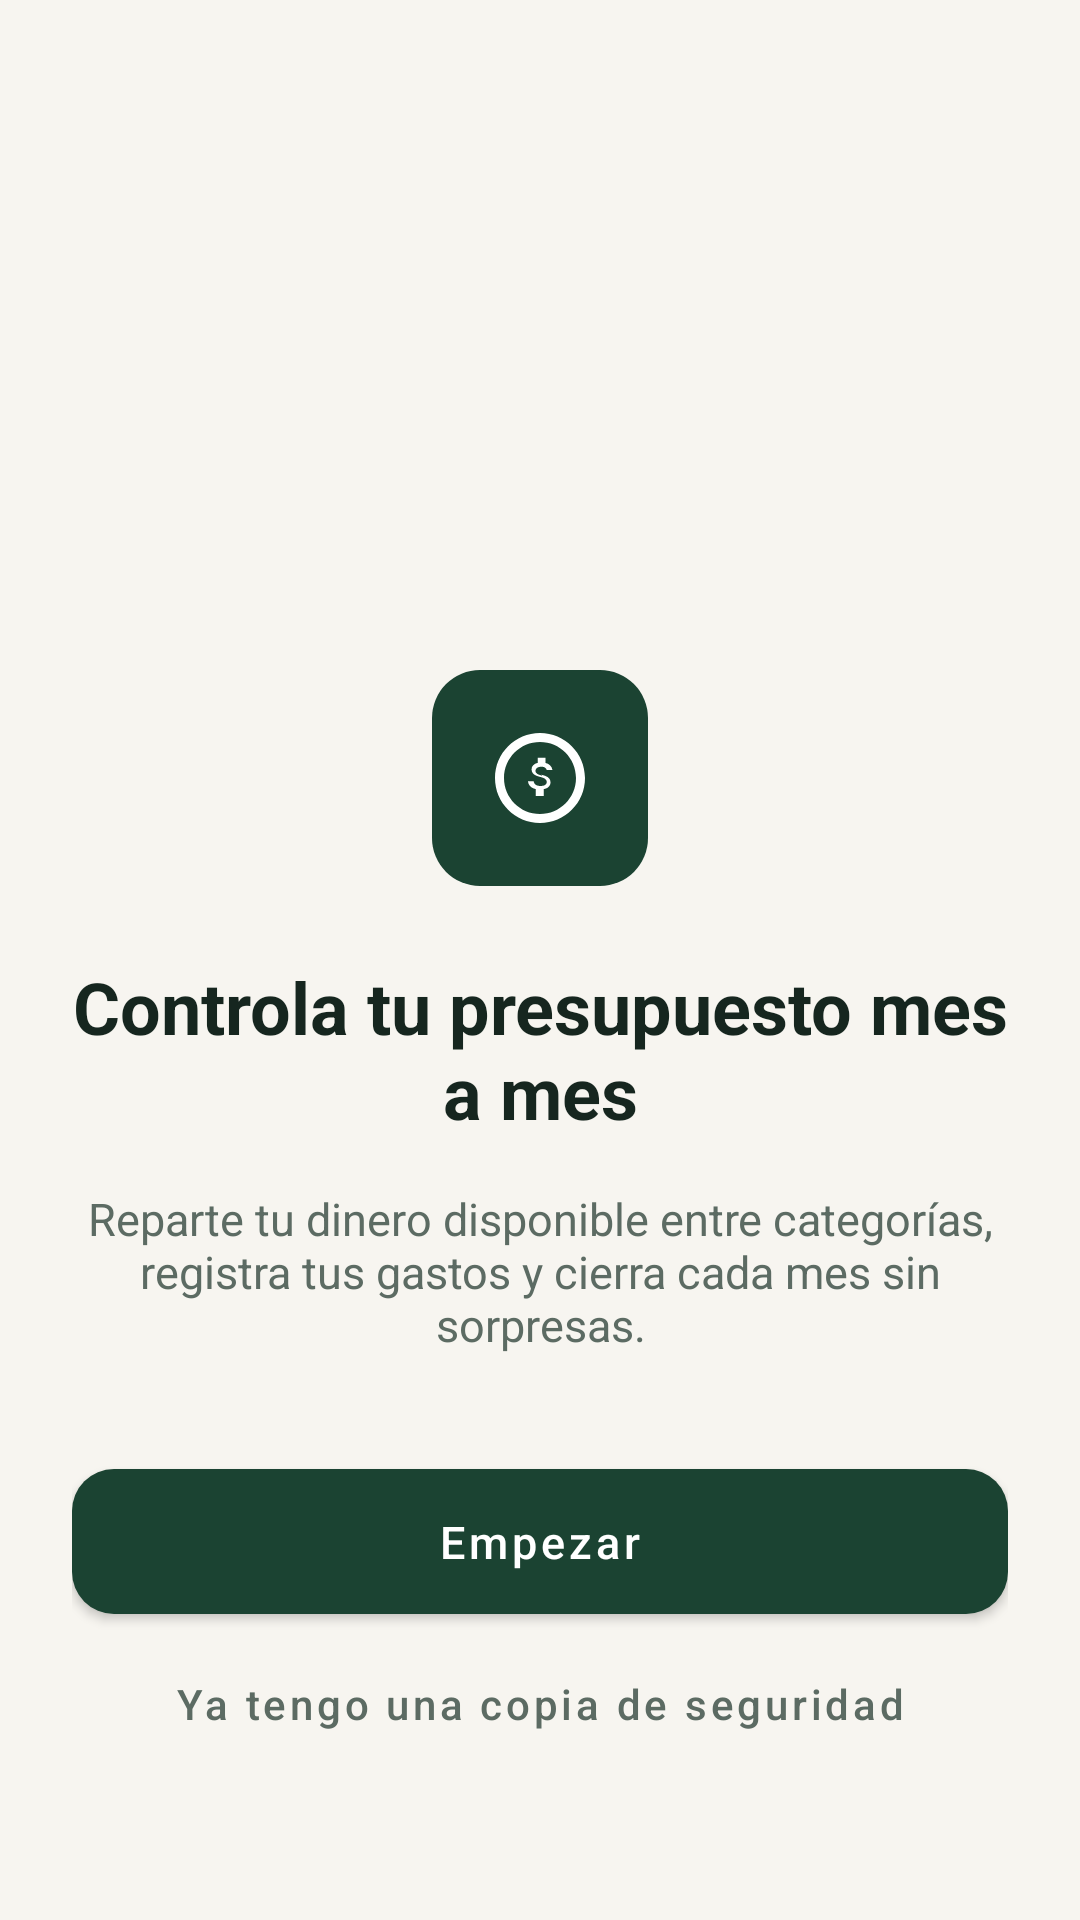

Icon bounding boxes for this 1080w x 1920h phone screenshot, format (x1, y1, x2, y2):
money: (432, 670, 648, 886)
